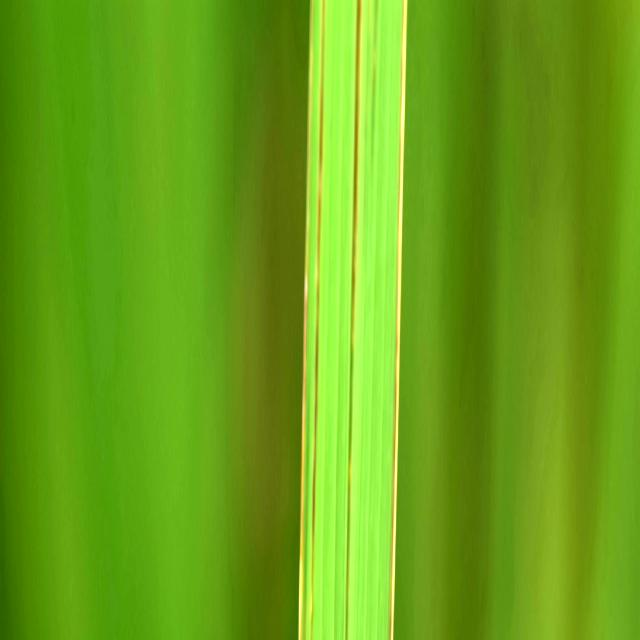BLS: (390, 0, 407, 640), (345, 2, 362, 640), (298, 1, 314, 640), (310, 0, 325, 640), (306, 599, 307, 640)
